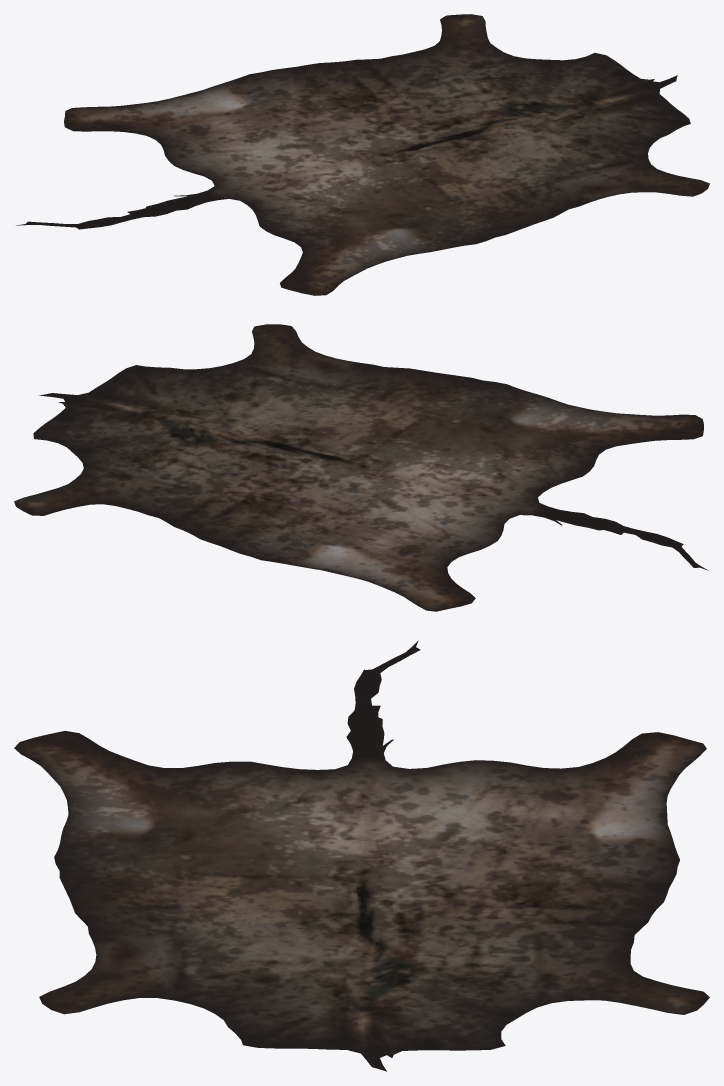
The model's file is SM_AnimalHide4.fbx.
3 renders of one model, top to bottom at view 1: azimuth 30°, elevation 25°; view 2: azimuth 150°, elevation 25°; view 3: azimuth 270°, elevation 25°, orthographic. The views are drawn at different scales.
Visible parts, largest first — view 1: SM_AnimalHide4_LOD0; view 2: SM_AnimalHide4_LOD0; view 3: SM_AnimalHide4_LOD0.
Boxes of the visible parts, box(x1,y1,x2,y2) form: SM_AnimalHide4_LOD0: box(16, 14, 709, 295); SM_AnimalHide4_LOD0: box(14, 324, 708, 611); SM_AnimalHide4_LOD0: box(14, 640, 709, 1071).
Bounding box in the file's own units: 362 × 246 × 4.29e-06.
Materials: 1 (1 with a texture image).
